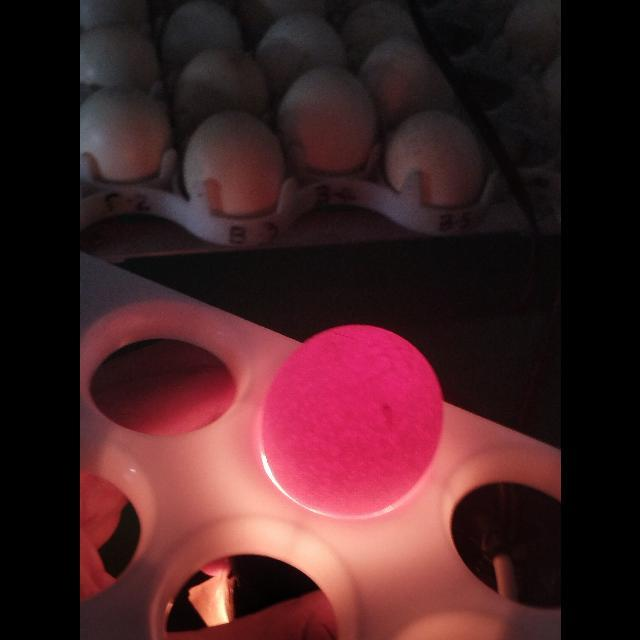Infertile: (256, 321, 448, 524)
